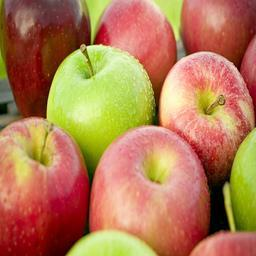apple: (90, 127, 211, 254), (47, 45, 157, 180), (158, 52, 253, 180), (1, 116, 88, 255), (3, 1, 91, 111), (92, 1, 177, 94), (179, 1, 256, 69)
